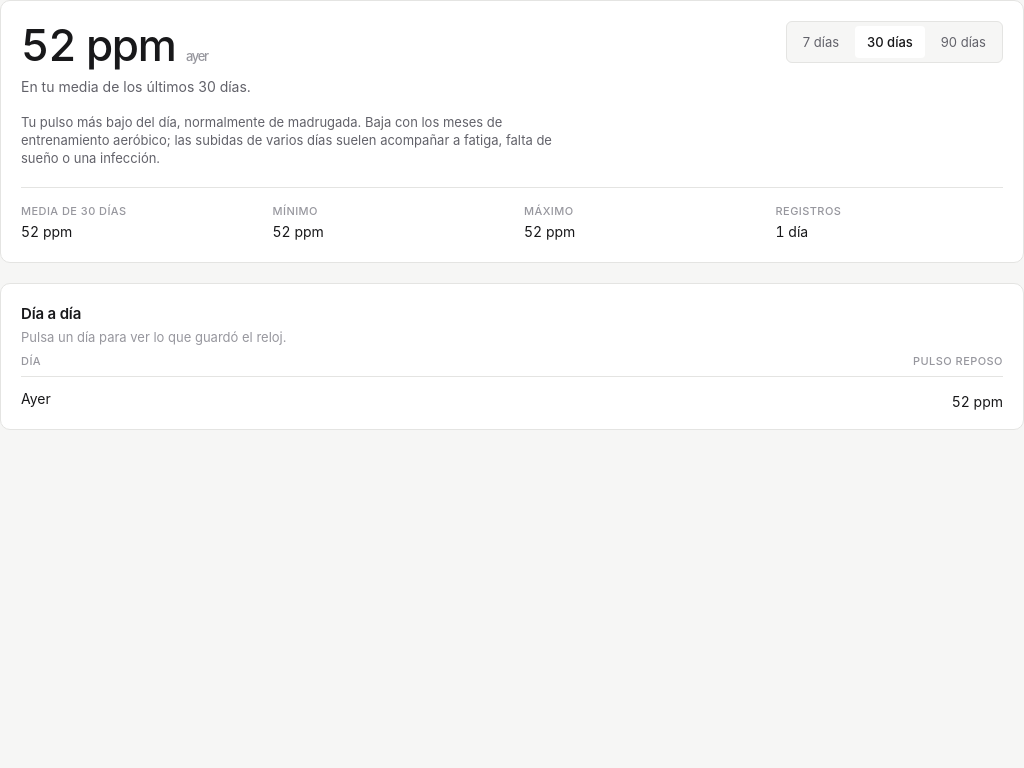
Scenario: MetricaDetalle › la gráfica del día dice que el pulso es el de TODO el día, no el de reposo
This screenshot has width=1024, height=768.
Step 1. Click the button named "ver el detalle del día" → click(36, 399), box [21,389,51,409]
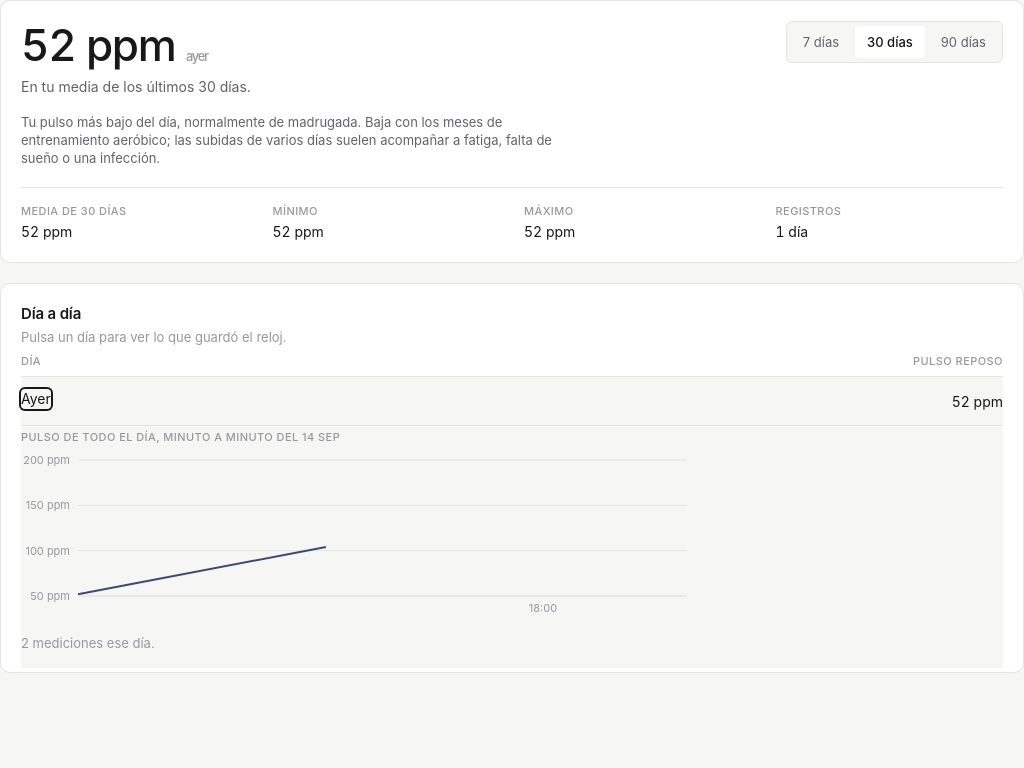
Expected: the text "Pulso de todo el día, minuto a minuto del 14 sep" is shown, [21,430,340,444]
